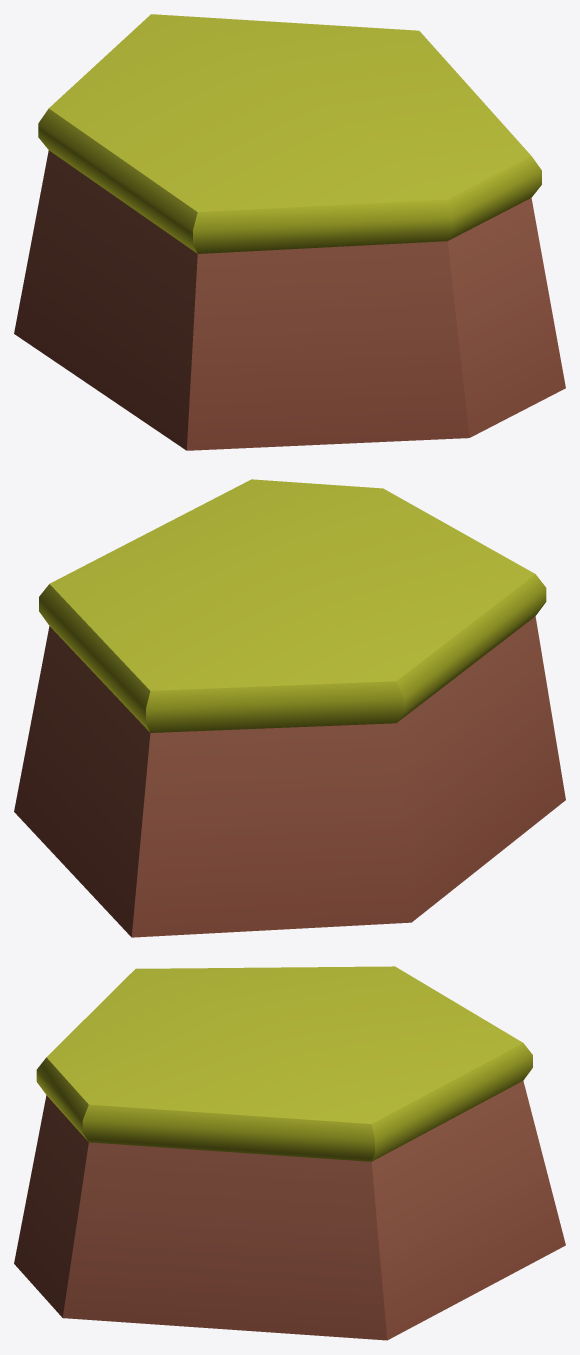
File: hill-single-c.glb
3 renders of one model, top to bottom at view 1: azimuth 30°, elevation 25°; view 2: azimuth 150°, elevation 25°; view 3: azimuth 270°, elevation 25°, orthographic. The views are drawn at different scales.
Visible parts, largest first — view 1: hill_single_C; view 2: hill_single_C; view 3: hill_single_C.
Part boxes in pixels (x1,y1,x2,y2): hill_single_C: (14,14,565,450); hill_single_C: (14,479,565,937); hill_single_C: (14,966,565,1340).
Bounding box in the file's own units: 1.02 × 0.5886 × 1.32.
1 material, 1 textured.
